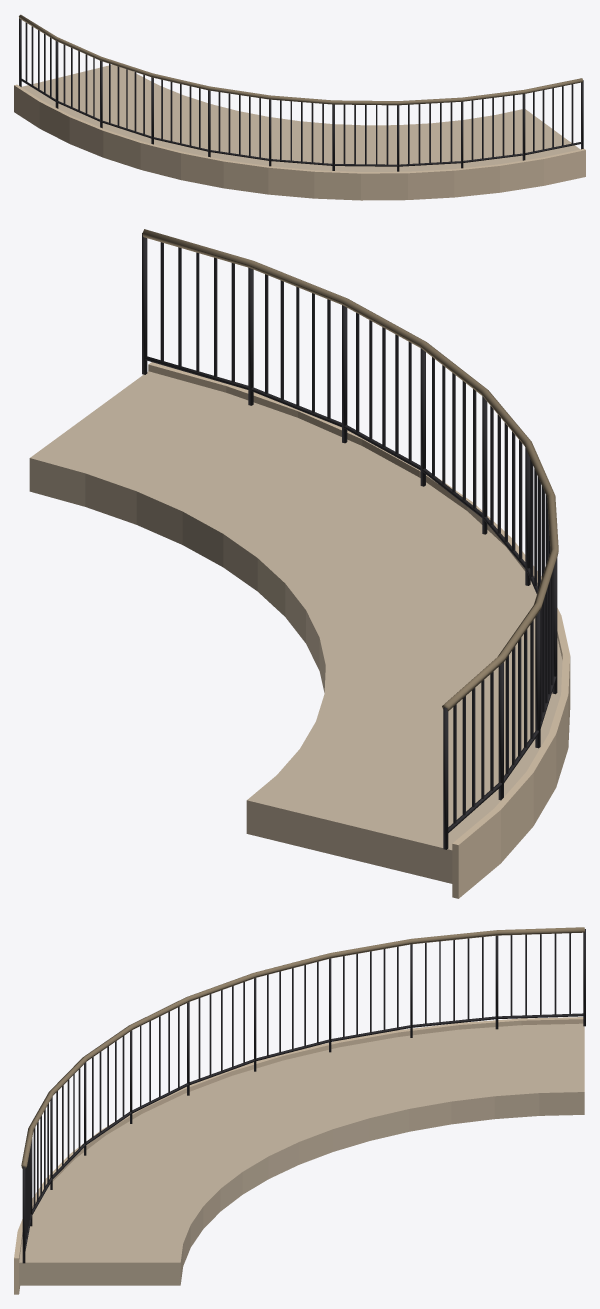
The model's file is city_balcony_round.glb.
3 views of the same model, one above another, from view 1: azimuth 30°, elevation 25°; view 2: azimuth 150°, elevation 25°; view 3: azimuth 270°, elevation 25° (orthographic). The views are drawn at different scales.
Parts seen in each view (by area): view 1: CityBalconyRound_Slab, CityBalconyRound_Fascia, CityBalconyRound_Handrail, CityBalconyRound_MidRail, CityBalconyRound_Post1, CityBalconyRound_Post9; view 2: CityBalconyRound_Slab, CityBalconyRound_Fascia, CityBalconyRound_Handrail, CityBalconyRound_MidRail, CityBalconyRound_Post0; view 3: CityBalconyRound_Slab, CityBalconyRound_Fascia, CityBalconyRound_Handrail, CityBalconyRound_MidRail.
Boxes of the visible parts, x1,y1,x2,y2 form: CityBalconyRound_Slab: [22, 64, 580, 171]; CityBalconyRound_Fascia: [14, 84, 585, 200]; CityBalconyRound_Handrail: [19, 14, 582, 105]; CityBalconyRound_MidRail: [20, 78, 581, 166]; CityBalconyRound_Post1: [55, 41, 58, 108]; CityBalconyRound_Post9: [522, 94, 525, 160]; CityBalconyRound_Slab: [29, 371, 562, 883]; CityBalconyRound_Fascia: [148, 362, 570, 898]; CityBalconyRound_Handrail: [142, 229, 558, 711]; CityBalconyRound_MidRail: [145, 356, 556, 832]; CityBalconyRound_Post0: [443, 707, 448, 849]; CityBalconyRound_Slab: [19, 1023, 584, 1285]; CityBalconyRound_Fascia: [14, 1017, 583, 1294]; CityBalconyRound_Handrail: [21, 927, 584, 1168]; CityBalconyRound_MidRail: [25, 1013, 583, 1250].
Bounding box in the file's own units: 5.66 × 1.43 × 5.66.
